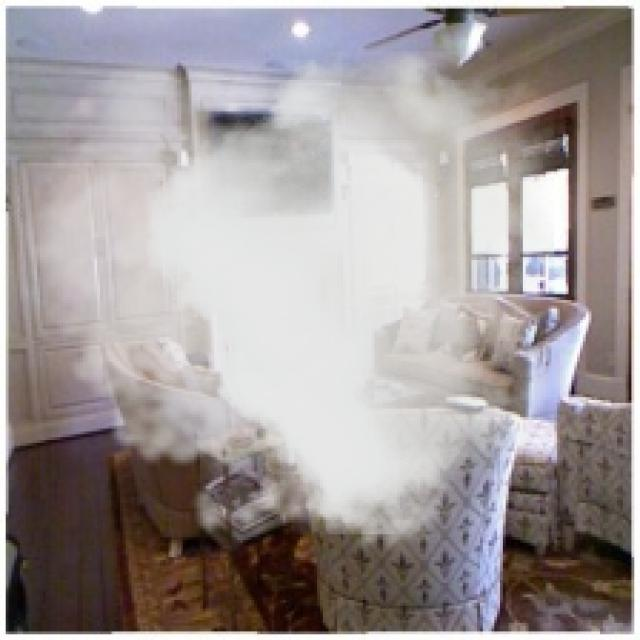smoke: (3, 51, 554, 566)
